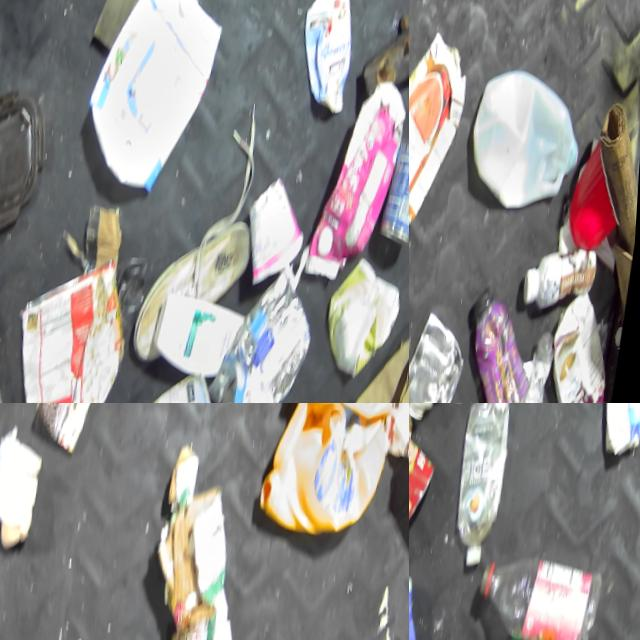can: (409, 308, 475, 403), (380, 139, 409, 257)
milk_jug: (75, 0, 233, 206), (467, 69, 587, 220)
non_white_jug: (305, 81, 409, 292), (6, 251, 142, 403), (258, 403, 396, 544), (323, 258, 409, 390), (291, 0, 364, 125)
plastic_bottle: (476, 549, 610, 640)
